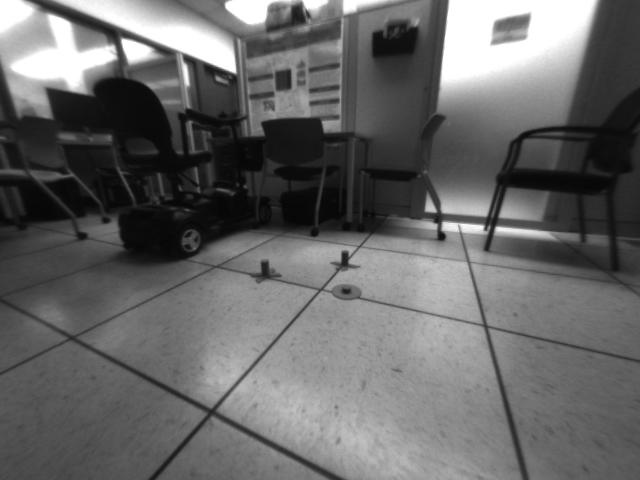X: (251, 259, 282, 283), (331, 249, 358, 272)
